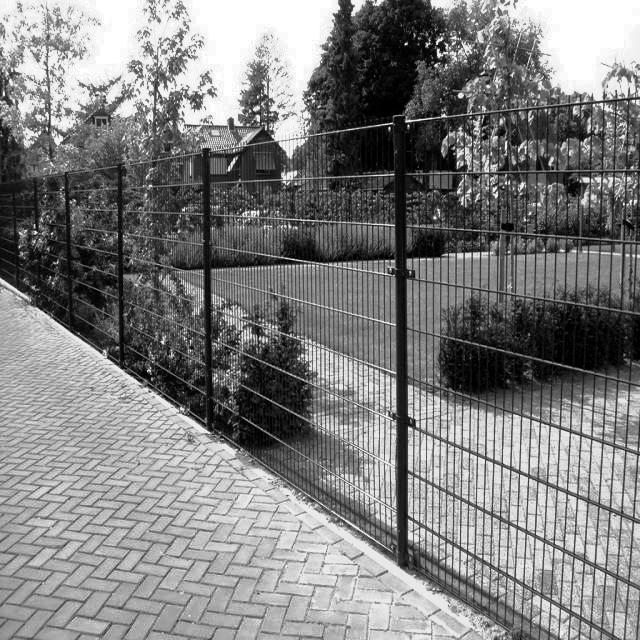fences: (384, 114, 640, 592), (206, 155, 377, 514), (61, 176, 190, 388), (5, 187, 56, 278)
